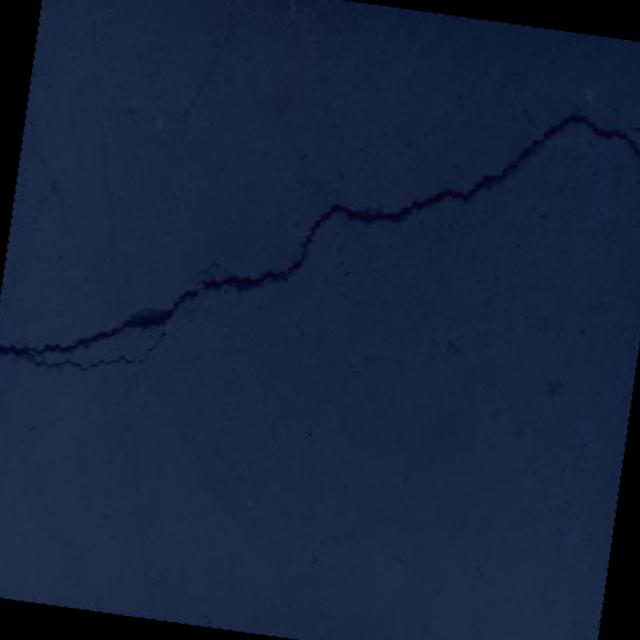crack: (0, 12, 640, 450)
